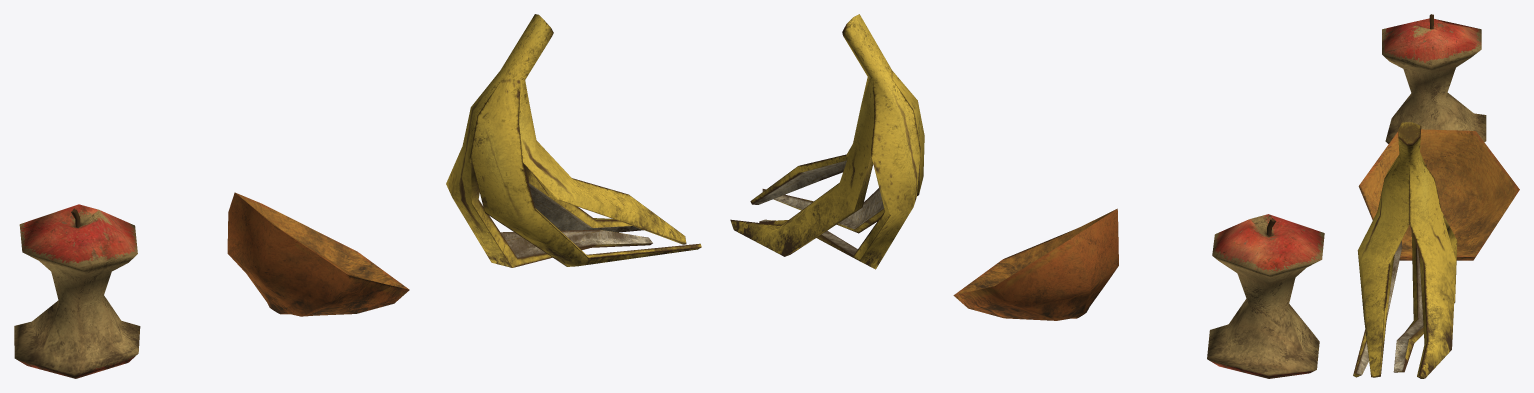
File: rotten_dirty_organic_waste.glb
3 renders of one model, left to right at view 1: azimuth 30°, elevation 25°; view 2: azimuth 150°, elevation 25°; view 3: azimuth 270°, elevation 25°, orthographic. The views are drawn at different scales.
Visible parts, largest first — view 1: Banana_Peel_GEO, Apple_Rotten_GEO, Orange_Peel_GEO; view 2: Banana_Peel_GEO, Apple_Rotten_GEO, Orange_Peel_GEO; view 3: Banana_Peel_GEO, Orange_Peel_GEO, Apple_Rotten_GEO.
Part boxes in pixels (left/top/right/bottom): Banana_Peel_GEO: left=446, top=14, right=701, bottom=267; Apple_Rotten_GEO: left=14, top=204, right=140, bottom=378; Orange_Peel_GEO: left=227, top=192, right=409, bottom=316; Banana_Peel_GEO: left=730, top=14, right=924, bottom=269; Apple_Rotten_GEO: left=1207, top=214, right=1324, bottom=378; Orange_Peel_GEO: left=953, top=208, right=1118, bottom=320; Banana_Peel_GEO: left=1353, top=122, right=1457, bottom=378; Orange_Peel_GEO: left=1358, top=129, right=1519, bottom=260; Apple_Rotten_GEO: left=1382, top=14, right=1486, bottom=143.
Size of the model in its own units: 0.6027 by 0.225 by 0.1629.
Materials: 1 (1 with a texture image).
